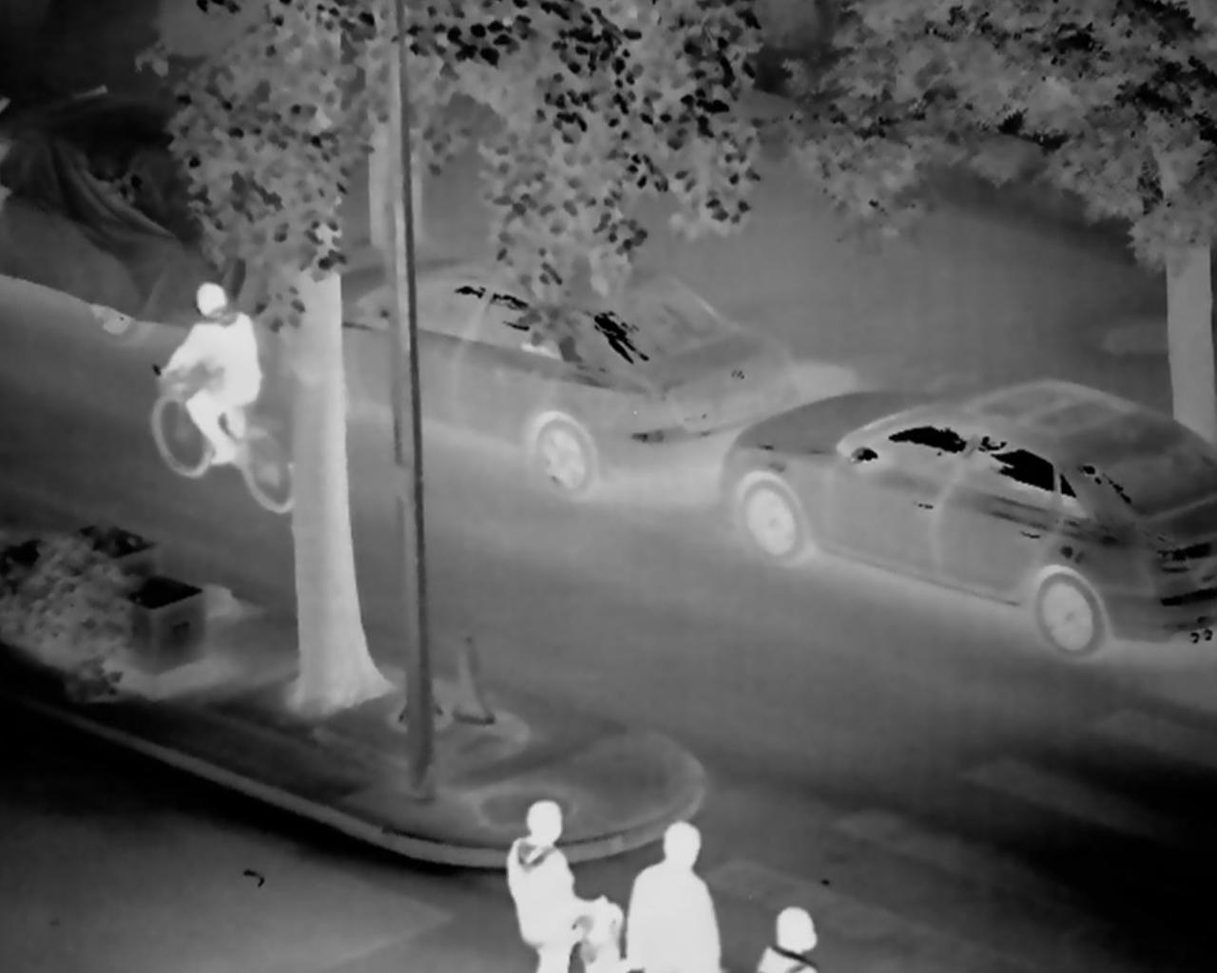person: (133, 280, 267, 473), (503, 796, 596, 973), (628, 812, 723, 973)
